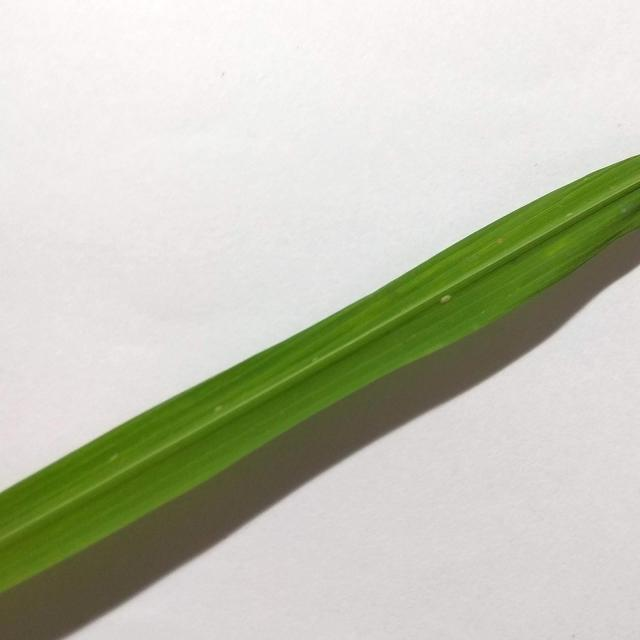healthy: (2, 86, 640, 614)
